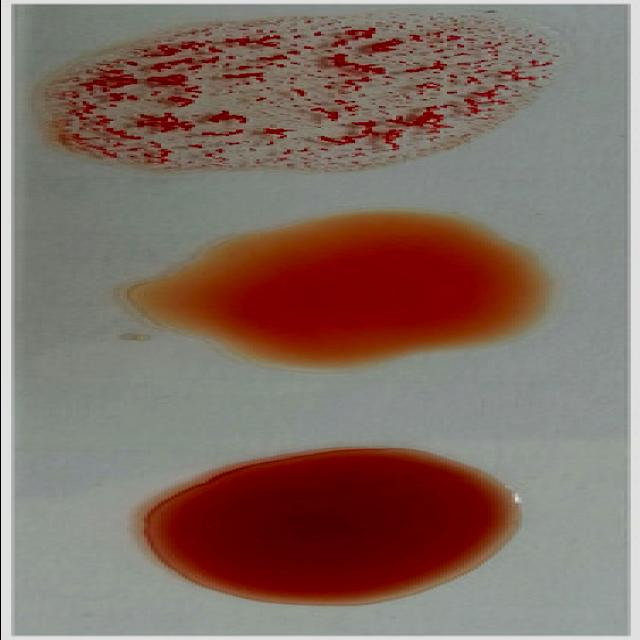D: (34, 11, 584, 168)
